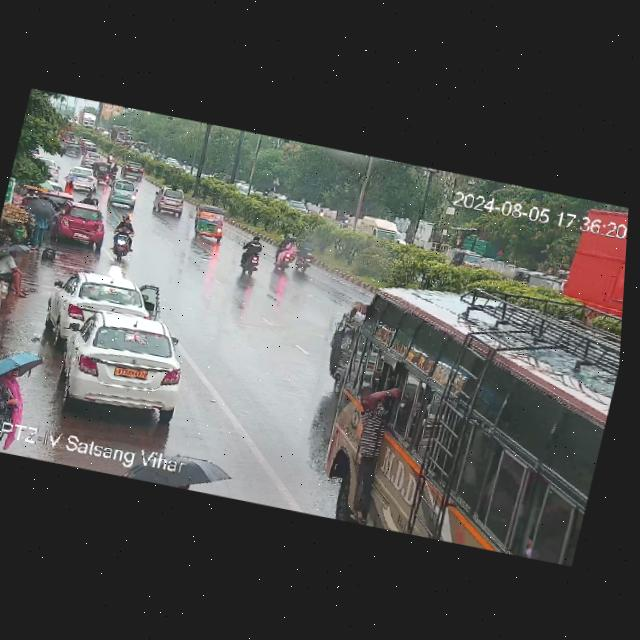bus: (289, 268, 625, 567)
car: (48, 306, 193, 421), (45, 265, 155, 345), (48, 201, 111, 249), (189, 209, 230, 244), (107, 177, 142, 211), (150, 186, 187, 218), (450, 248, 488, 271), (65, 170, 102, 193), (91, 161, 121, 183)
motorcycle: (279, 236, 321, 278), (105, 212, 139, 262), (233, 235, 267, 278)
person: (0, 351, 30, 446), (15, 190, 60, 247), (0, 244, 36, 301)
truck: (556, 199, 629, 314), (348, 214, 411, 245)
